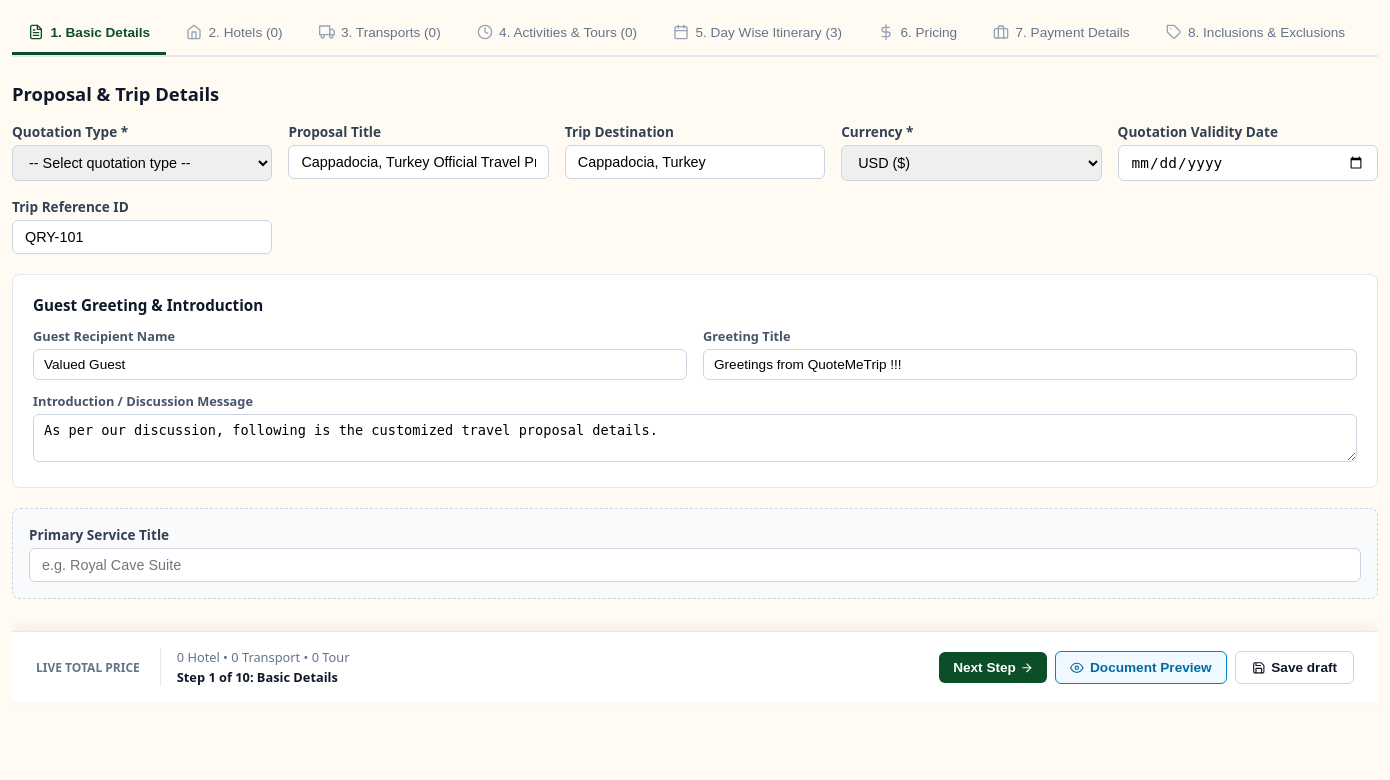
Test: QuotationBuilder Component › adds and removes transport services with updated count badges
This screenshot has width=1390, height=780.
# Navigate to Transports
Step 1. Click the button "3. Transports (0)" → (380, 34), box [303,12,457,55]
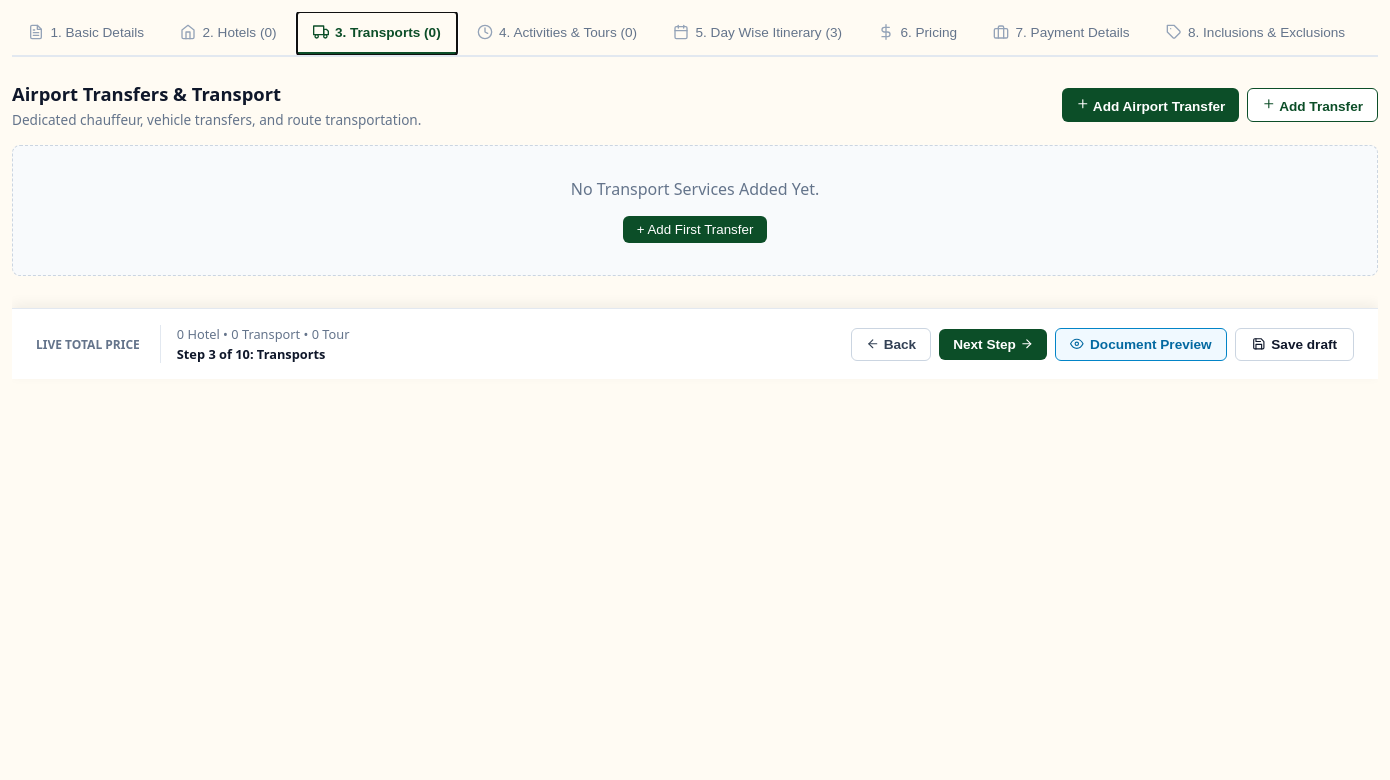
Result: the text "No Transport Services Added Yet." is shown at [571,178,819,200]
# Add Airport Transfer
Step 2. Click the button "Add Airport Transfer" → (1151, 105), box [1062,88,1239,122]
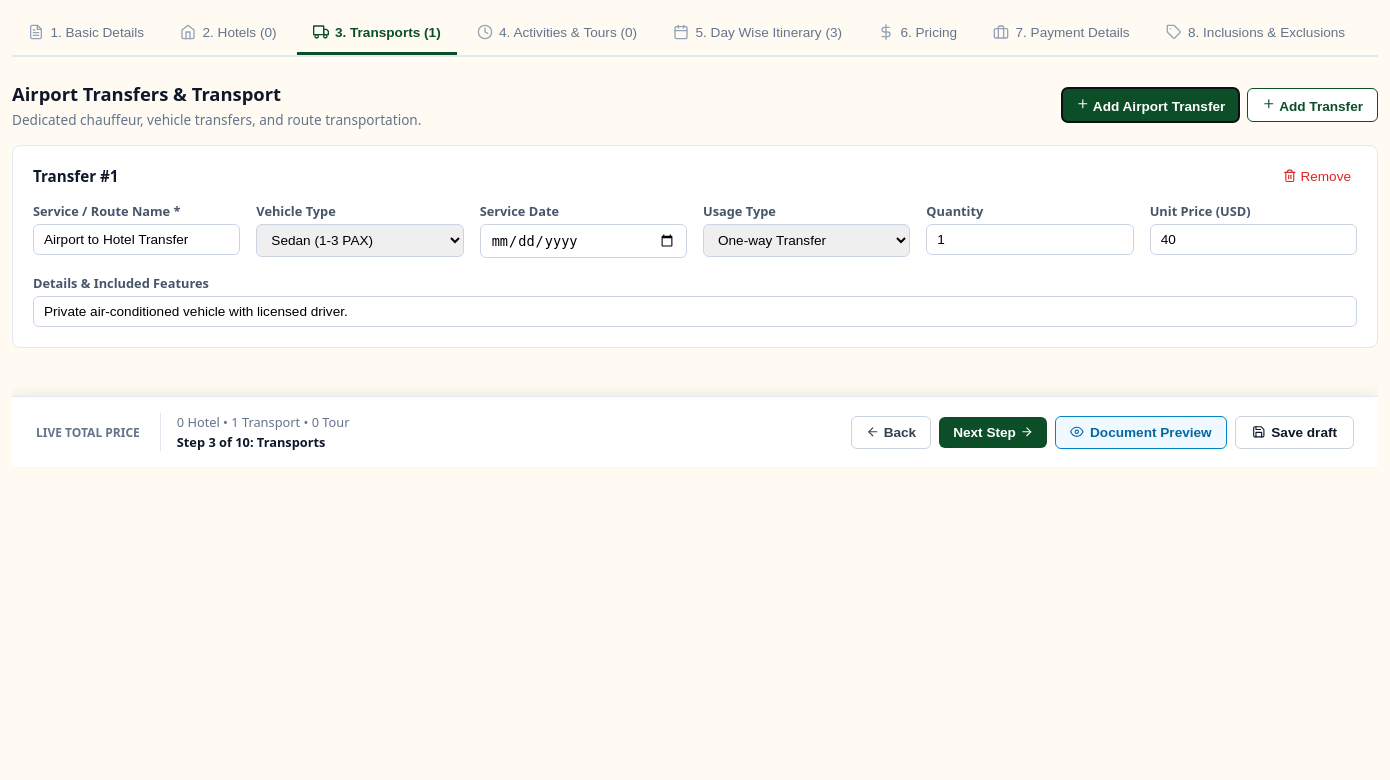
Result: the text "Transfer #1" is shown at [33,166,118,186]
Result: the button "3. Transports (1)" is shown at [296,12,457,55]
# Add another Transfer
Step 3. Click the button "Add Transfer" → (1313, 105), box [1247,88,1378,122]
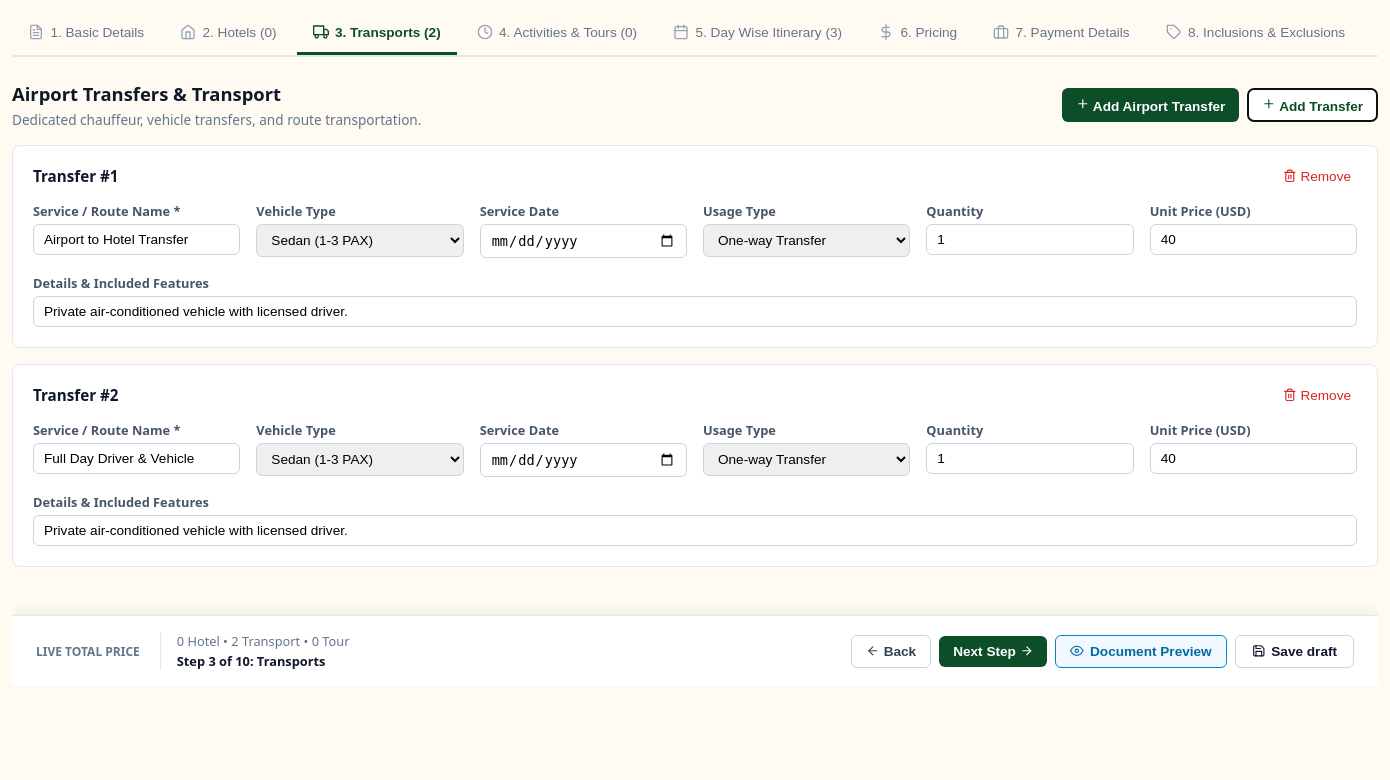
Result: the text "Transfer #2" is shown at [33,385,118,405]
Result: the button "3. Transports (2)" is shown at [296,12,457,55]
# Remove first Transfer
Step 4. Click the 1st button "Remove" → (1317, 176), box [1277,168,1357,184]
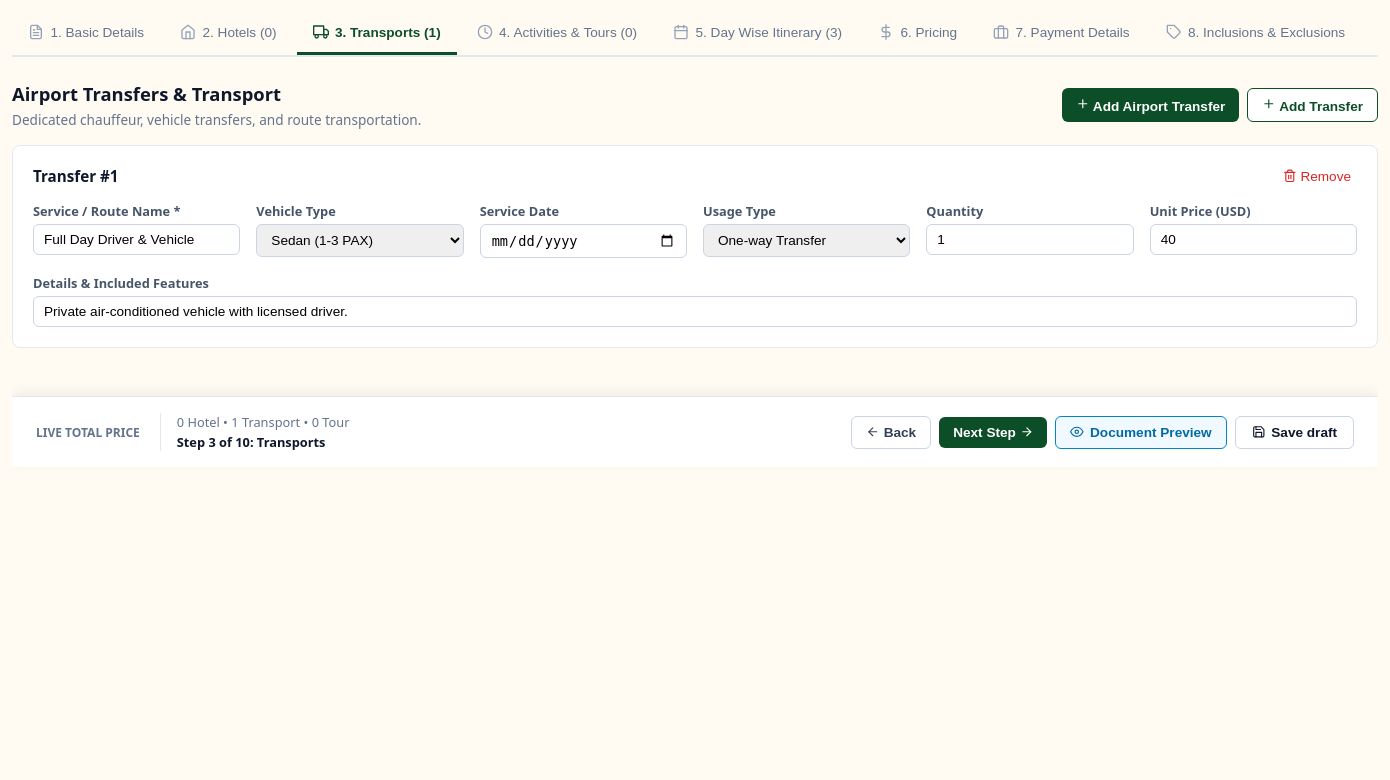
Result: the button "3. Transports (1)" is shown at [296,12,457,55]
